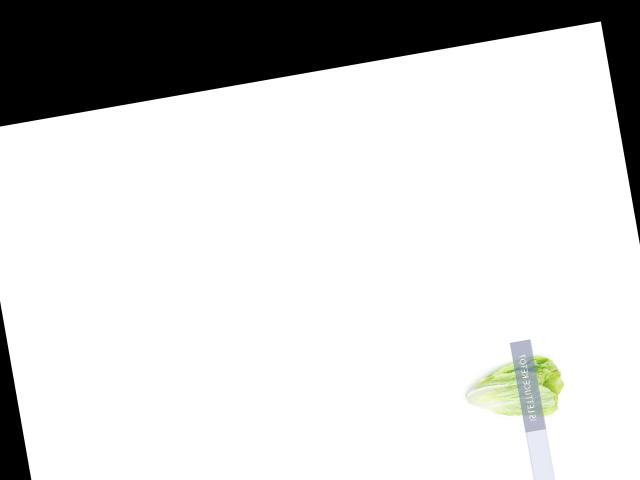lettuce: (451, 346, 568, 433)
